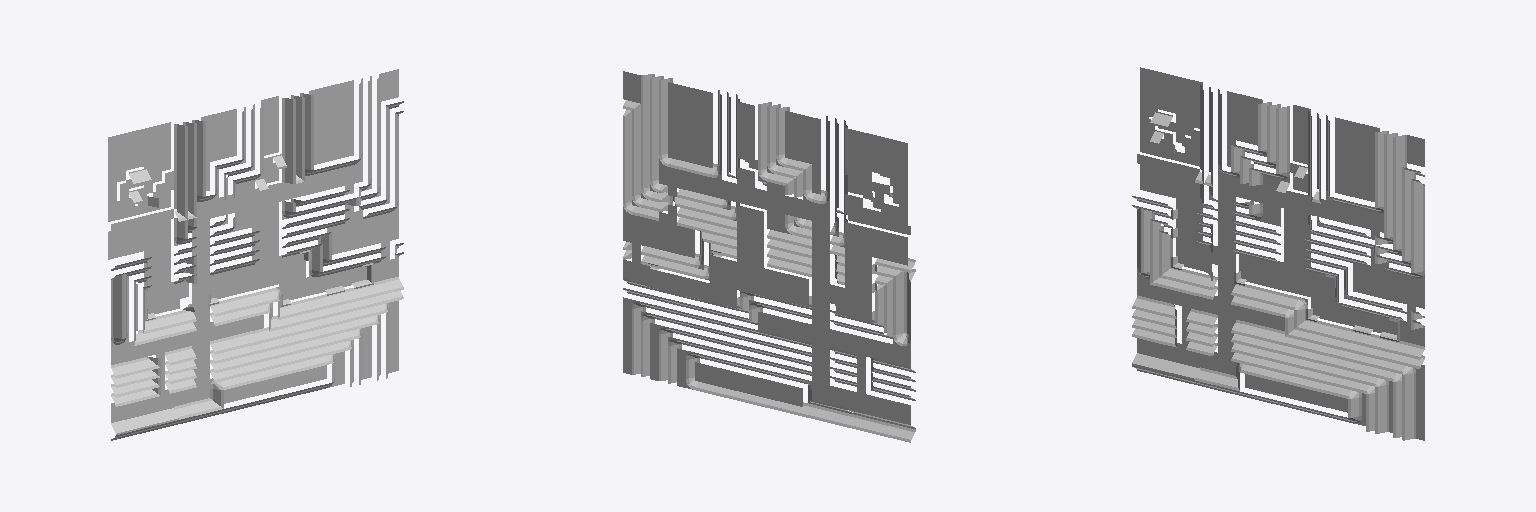
The model's file is Plat_full_15_10.obj.
3 renders of one model, left to right at view 1: azimuth 30°, elevation 25°; view 2: azimuth 150°, elevation 25°; view 3: azimuth 330°, elevation 25°, orthographic.
Visible parts, largest first — view 1: map; view 2: map; view 3: map.
Part boxes in pixels (x1,y1,x2,y2): map: (108, 69, 403, 440); map: (623, 71, 915, 442); map: (1132, 67, 1424, 440).
Bounding box in the file's own units: 32 × 32 × 1.5.